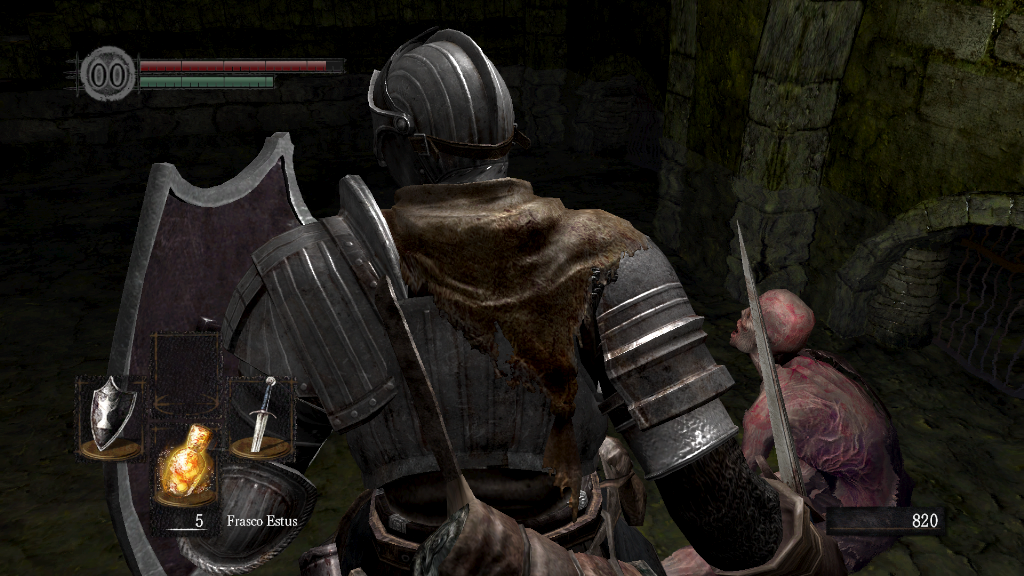health: (138, 58, 343, 71)
hollow: (726, 286, 916, 572)
humanity: (80, 45, 136, 102)
player: (104, 26, 826, 576)
souls: (825, 506, 945, 536)
stamina: (138, 74, 274, 88)
